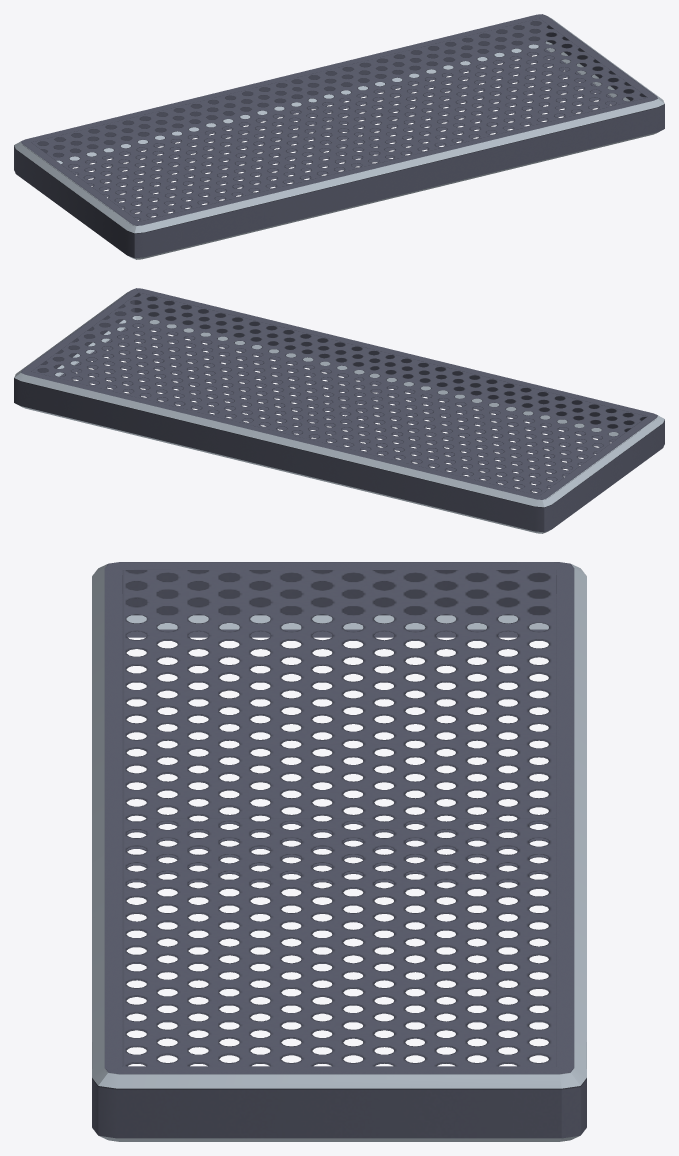
The model's file is Interior_Grid_01.FBX.
3 renders of one model, top to bottom at view 1: azimuth 30°, elevation 25°; view 2: azimuth 150°, elevation 25°; view 3: azimuth 270°, elevation 25°, orthographic. The views are drawn at different scales.
Visible parts, largest first — view 1: Interior_Grid_01; view 2: Interior_Grid_01; view 3: Interior_Grid_01.
Boxes of the visible parts, x1,y1,x2,y2 form: Interior_Grid_01: (14, 14, 664, 259); Interior_Grid_01: (14, 288, 664, 533); Interior_Grid_01: (92, 562, 586, 1141).
Bounding box in the file's own units: 2.5 × 0.1509 × 1.
Materials: 2 (2 with a texture image).
